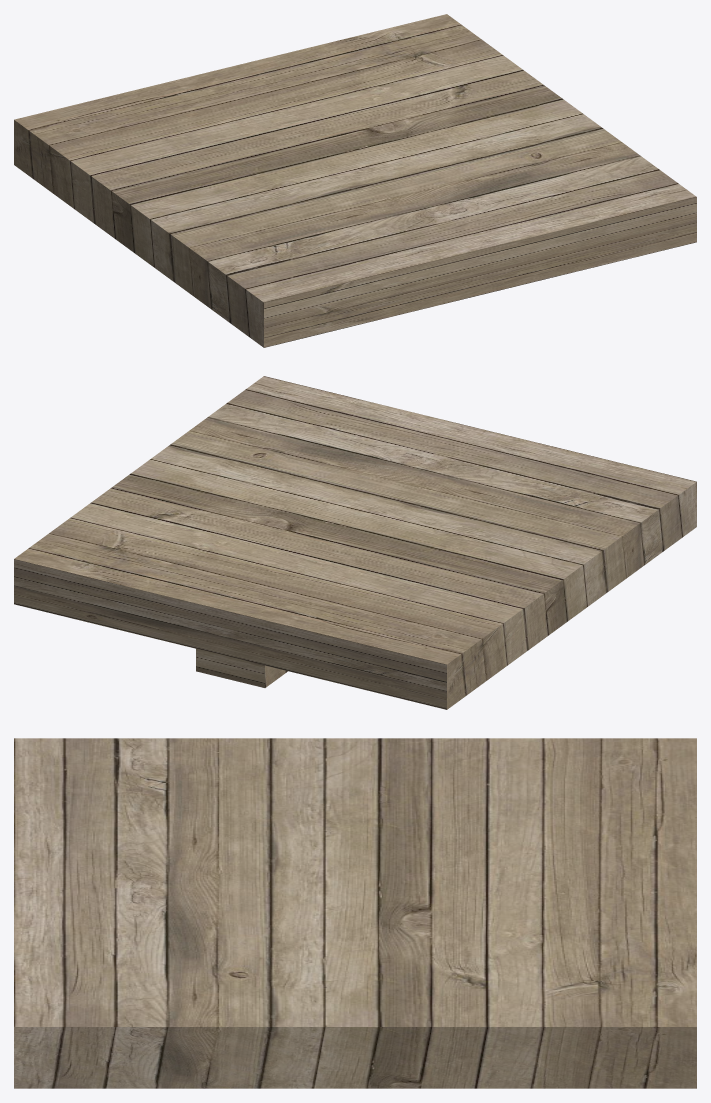
Rendered from Balcony_SM.FBX.
The picture shows the model from 3 angles, top to bottom: view 1: azimuth 30°, elevation 25°; view 2: azimuth 150°, elevation 25°; view 3: azimuth 270°, elevation 25°; orthographic projection. The views are drawn at different scales.
Parts seen in each view (by area): view 1: Box002; view 2: Box002; view 3: Box002.
Boxes of the visible parts, x1=… form: Box002: x1=14, y1=14, x2=696, y2=347; Box002: x1=14, y1=376, x2=696, y2=709; Box002: x1=14, y1=738, x2=696, y2=1088.
Bounding box in the file's own units: 400 × 400 × 60.
Materials: 1 (1 with a texture image).
